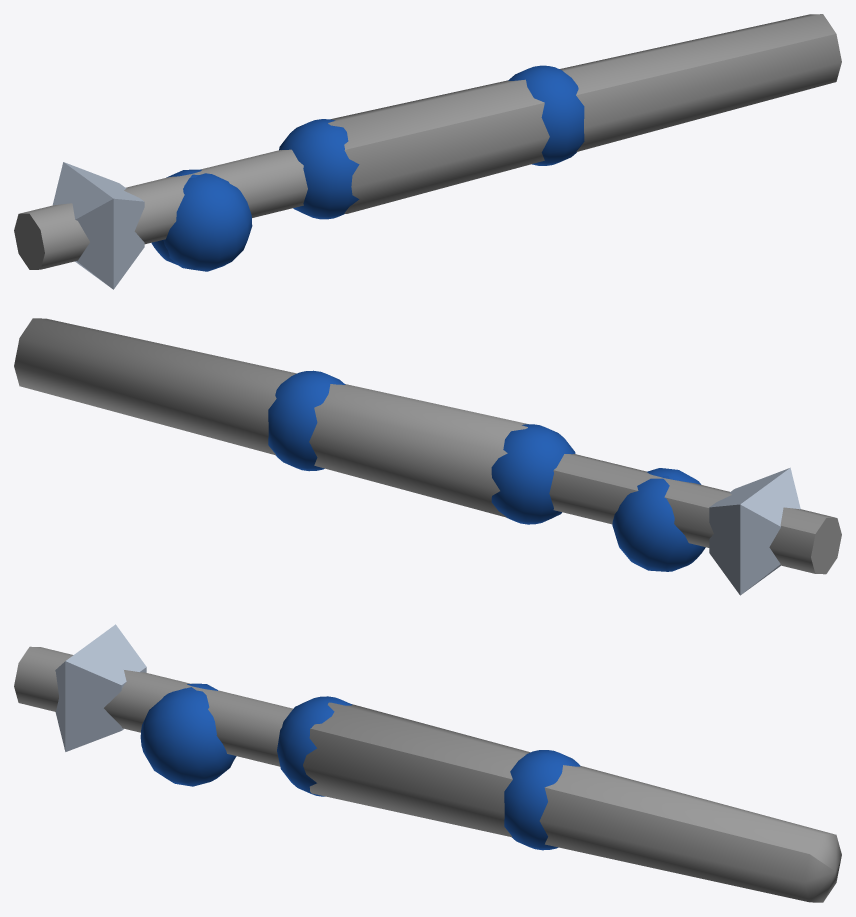
Rendered from Baton.obj.
The picture shows the model from 3 angles, top to bottom: view 1: azimuth 30°, elevation 25°; view 2: azimuth 150°, elevation 25°; view 3: azimuth 330°, elevation 25°; orthographic projection.
Parts seen in each view (by area): view 1: __unnamed, frame_baton, _left_hand_baton, _glow, _light; view 2: __unnamed, frame_baton, _glow, _right_hand_baton, _light; view 3: __unnamed, frame_baton, _left_hand_baton, _light, _glow.
Boxes of the visible parts, left/top/right/bottom form: __unnamed: left=14, top=14, right=841, bottom=269; frame_baton: left=52, top=162, right=144, bottom=289; _left_hand_baton: left=163, top=173, right=252, bottom=271; _glow: left=279, top=119, right=359, bottom=219; _light: left=508, top=65, right=584, bottom=165; __unnamed: left=14, top=318, right=841, bottom=574; frame_baton: left=709, top=467, right=800, bottom=595; _glow: left=491, top=424, right=575, bottom=524; _right_hand_baton: left=612, top=476, right=705, bottom=571; _light: left=268, top=370, right=345, bottom=471; __unnamed: left=14, top=646, right=841, bottom=902; frame_baton: left=55, top=624, right=146, bottom=751; _left_hand_baton: left=140, top=688, right=235, bottom=786; _light: left=504, top=750, right=580, bottom=850; _glow: left=277, top=696, right=352, bottom=796.
Bounding box in the file's own units: 18.5 × 2.37 × 2.25.
